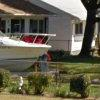Boat: (1, 26, 71, 73)
